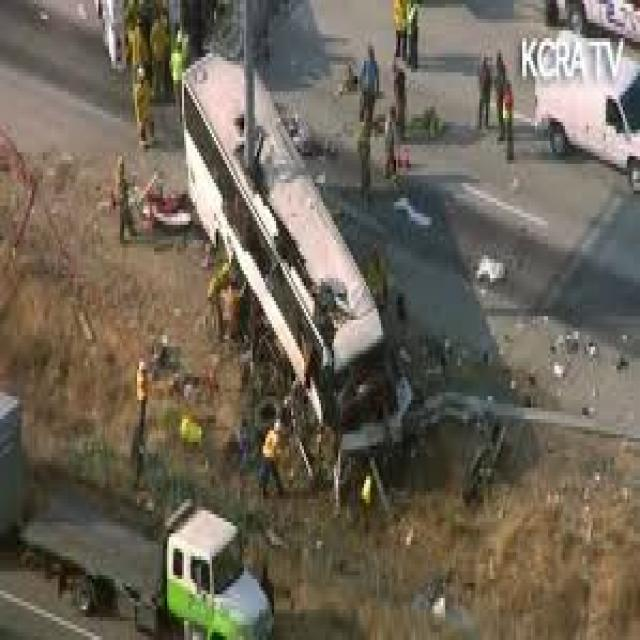accident: (142, 27, 460, 515)
